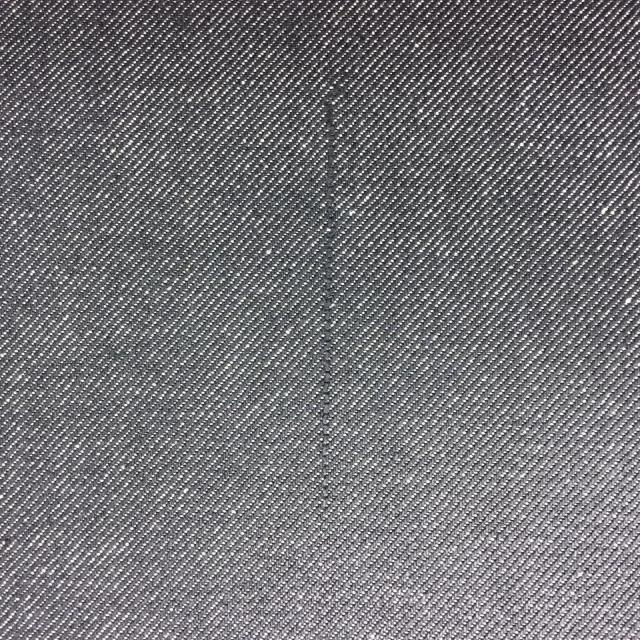Line: (310, 87, 338, 548)
